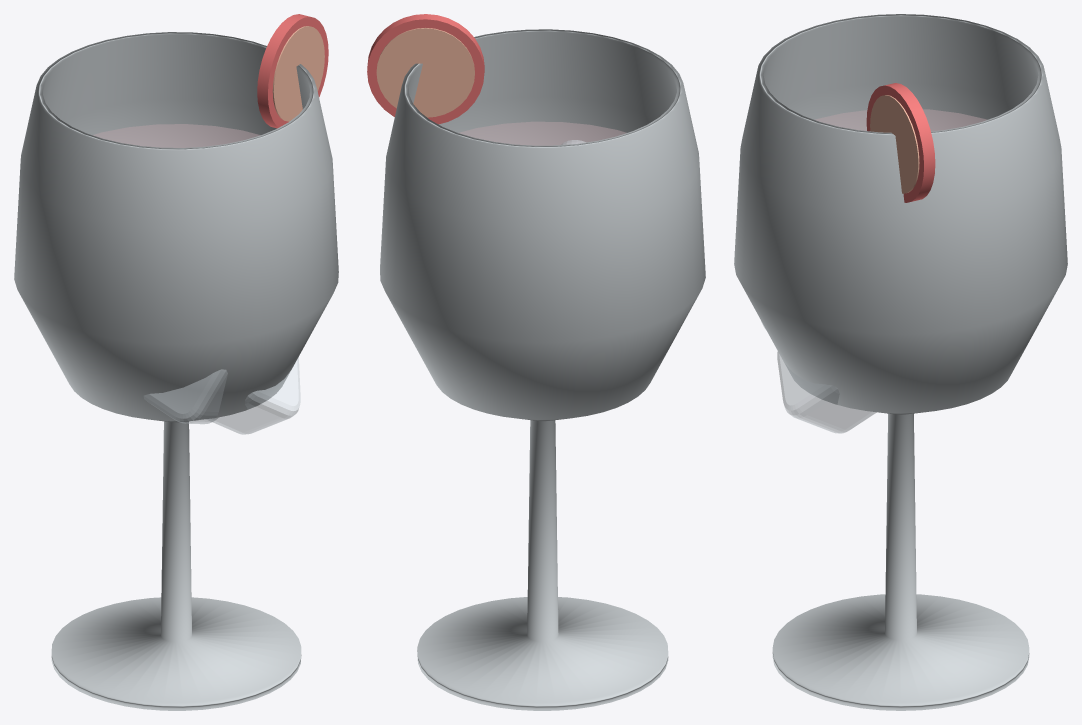
Rendered from cocktail-gin-malfy-rosa.glb.
3 renders of one model, left to right at view 1: azimuth 30°, elevation 25°; view 2: azimuth 150°, elevation 25°; view 3: azimuth 270°, elevation 25°, orthographic. The views are drawn at different scales.
Size of the model in its own units: 0.1124 by 0.2154 by 0.104.
